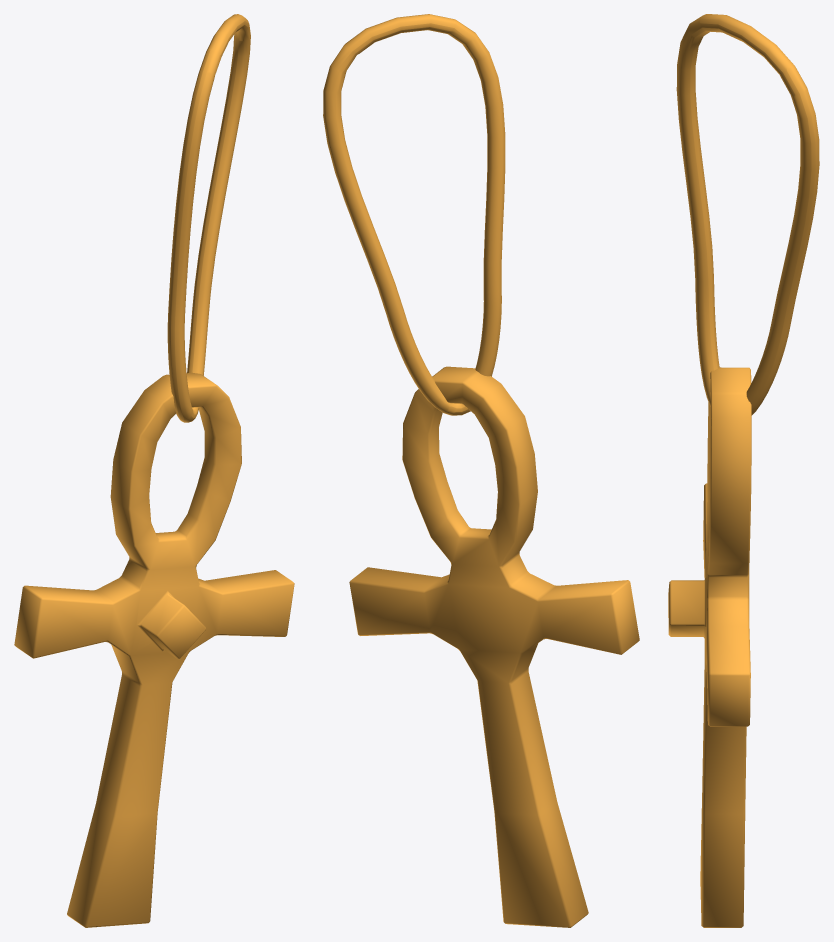
The model's file is Artefact v2.1.glb.
3 views of the same model, side by side, from view 1: azimuth 30°, elevation 25°; view 2: azimuth 150°, elevation 25°; view 3: azimuth 270°, elevation 25° (orthographic). The views are drawn at different scales.
Visible parts, largest first — view 1: symbol_Smooth Gold.001_0.002; view 2: symbol_Smooth Gold.001_0.002; view 3: symbol_Smooth Gold.001_0.002.
Boxes of the visible parts, x1,y1,x2,y2 form: symbol_Smooth Gold.001_0.002: (14, 14, 294, 927); symbol_Smooth Gold.001_0.002: (323, 14, 639, 927); symbol_Smooth Gold.001_0.002: (668, 14, 819, 927).
Size of the model in its own units: 0.2903 by 0.9022 by 0.1291.
